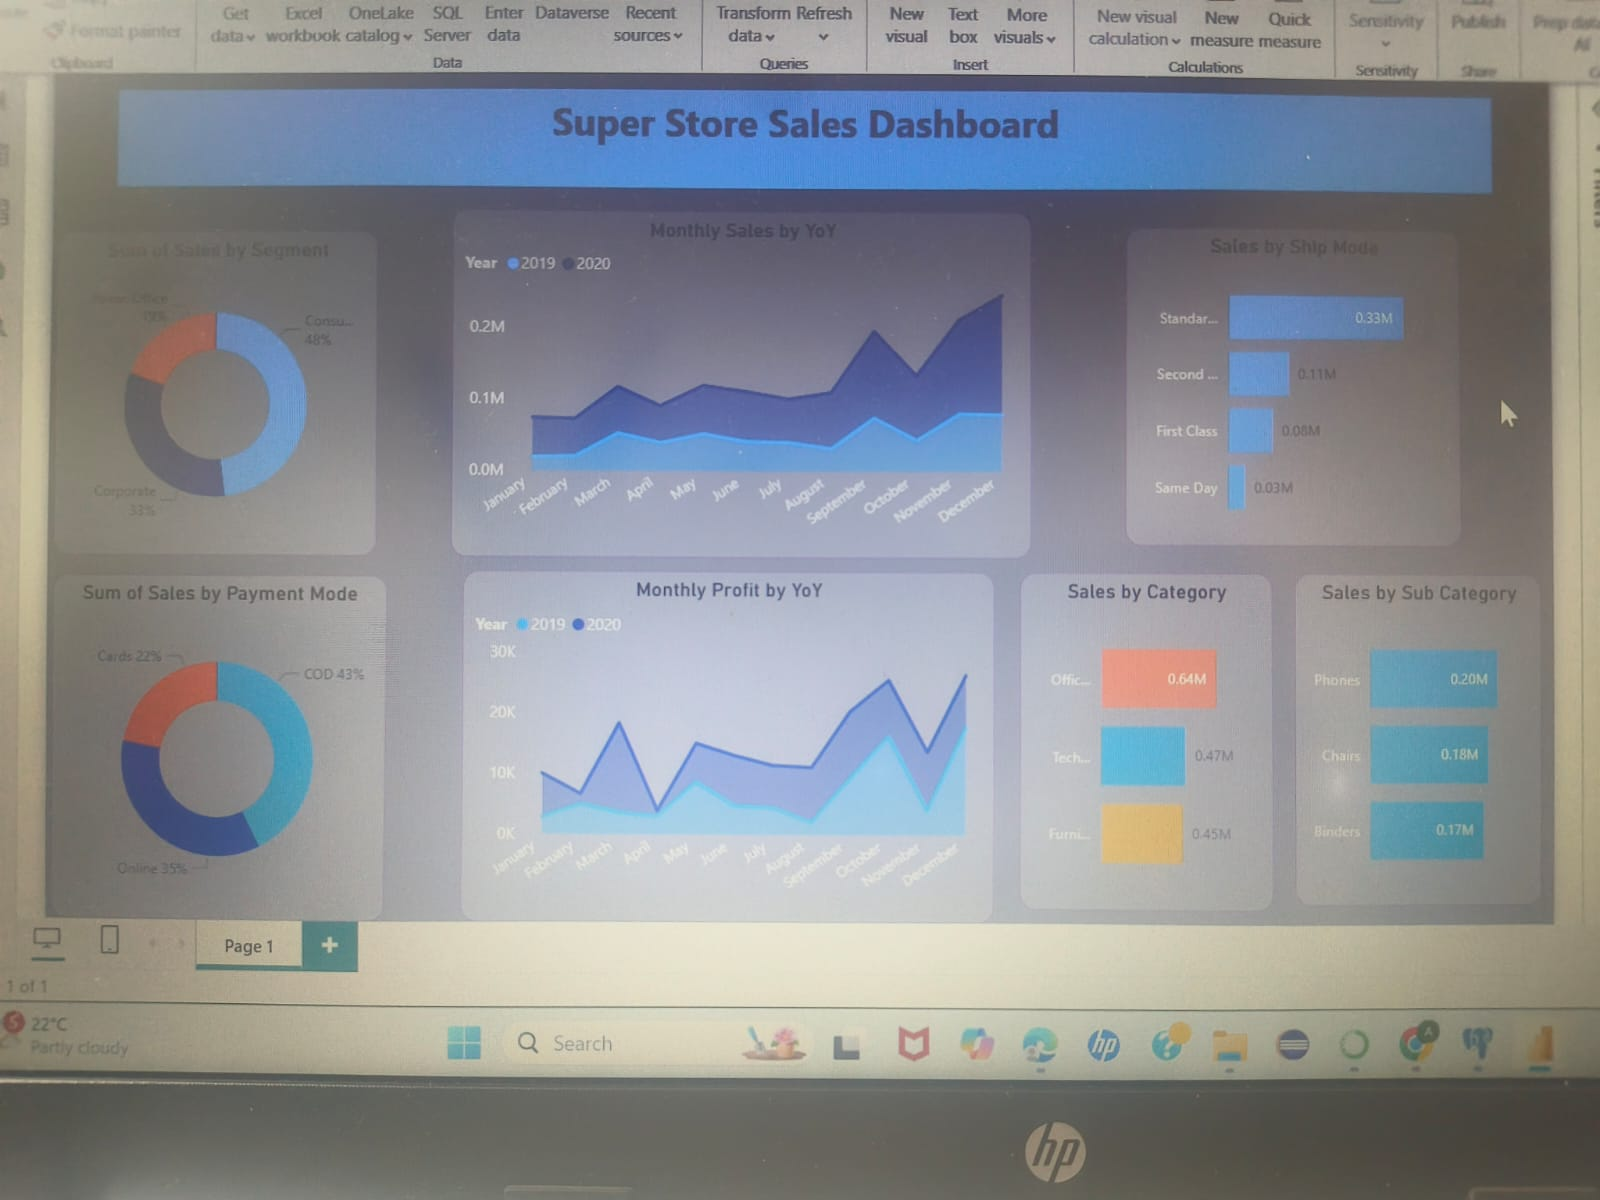

What the dashboard file says about the page in this screenshot:
{"tool":"powerbi","page":{"name":"Page 1","canvas":[1280,720],"ordinal":0},"visuals":[{"type":"clusteredBarChart","title":"Sales by Category","fields":{"Category":["SuperStore_Sales_Dataset.Category"],"Y":["Sum(SuperStore_Sales_Dataset.Sales)"]},"box":[832.4,446.4,213.5,261.8],"z":0},{"type":"clusteredBarChart","title":"Sales by Sub Category","fields":{"Category":["SuperStore_Sales_Dataset.Sub-Category"],"Y":["Sum(SuperStore_Sales_Dataset.Sales)"]},"box":[1061.7,446.4,207.5,257],"z":1000},{"type":"clusteredBarChart","title":"Sales by Ship Mode","fields":{"Category":["SuperStore_Sales_Dataset.Ship Mode"],"Y":["Sum(SuperStore_Sales_Dataset.Sales)"]},"box":[894,218.4,305.2,206.3],"z":2000},{"type":"stackedAreaChart","title":"Monthly Sales by YoY","fields":{"Y":["Sum(SuperStore_Sales_Dataset.Sales)"],"Category":["SuperStore_Sales_Dataset.Order Date.Variation.Date Hierarchy.Month","SuperStore_Sales_Dataset.Order Date.Variation.Date Hierarchy.Day"],"Series":["SuperStore_Sales_Dataset.Order Date.Variation.Date Hierarchy.Year"]},"box":[380,218.4,452.4,228],"z":3000},{"type":"stackedAreaChart","title":"Monthly Profit  by YoY","fields":{"Category":["SuperStore_Sales_Dataset.Order Date.Variation.Date Hierarchy.Month","SuperStore_Sales_Dataset.Order Date.Variation.Date Hierarchy.Day"],"Series":["SuperStore_Sales_Dataset.Order Date.Variation.Date Hierarchy.Year"],"Y":["Sum(SuperStore_Sales_Dataset.Profit)"]},"box":[380,460.9,423.5,259.4],"z":4000},{"type":"donutChart","fields":{"Category":["SuperStore_Sales_Dataset.Segment"],"Y":["Sum(SuperStore_Sales_Dataset.Sales)"]},"box":[4.8,196.6,275.1,252.1],"z":5000},{"type":"donutChart","fields":{"Category":["SuperStore_Sales_Dataset.Payment Mode","SuperStore_Sales_Dataset.Segment"],"Y":["Sum(SuperStore_Sales_Dataset.Sales)"]},"box":[4.8,460.9,275.1,259.4],"z":6000},{"type":"textbox","box":[54.3,14.5,1175.1,83.2],"z":7000},{"type":"cardVisual","title":"Sales","fields":{"Data":["Sum(SuperStore_Sales_Dataset.Sales)"]},"box":[194.2,89.3,170.1,118.2],"z":8000},{"type":"cardVisual","title":"Sales","fields":{"Data":["Sum(SuperStore_Sales_Dataset.Quantity)"]},"box":[431.9,89.3,174.9,120.6],"z":8001},{"type":"cardVisual","title":"Sales","fields":{"Data":["Sum(SuperStore_Sales_Dataset.Profit)"]},"box":[676.8,89.3,171.3,125.5],"z":8002},{"type":"cardVisual","title":"Sales","fields":{"Data":["Avg(SuperStore_Sales_Dataset.AvgDelivery)"]},"box":[939.8,89.3,167.7,125.5],"z":8003}]}

Visuals, with their boxes in screenshot pixels (x1, y1, x2, y2):
"Sales by Category" clusteredBarChart: l=1027, t=589, r=1281, b=900
"Sales by Sub Category" clusteredBarChart: l=1300, t=589, r=1547, b=895
"Sales by Ship Mode" clusteredBarChart: l=1100, t=318, r=1463, b=563
"Monthly Sales by YoY" stackedAreaChart: l=489, t=318, r=1027, b=589
"Monthly Profit  by YoY" stackedAreaChart: l=489, t=606, r=993, b=915
donutChart - SuperStore_Sales_Dataset.Segment x Sum(SuperStore_Sales_Dataset.Sales): l=43, t=292, r=370, b=592
donutChart - SuperStore_Sales_Dataset.Payment Mode x SuperStore_Sales_Dataset.Segment: l=43, t=606, r=370, b=915
textbox: l=102, t=76, r=1499, b=174
"Sales" cardVisual: l=268, t=165, r=471, b=305
"Sales" cardVisual: l=551, t=165, r=759, b=308
"Sales" cardVisual: l=842, t=165, r=1046, b=314
"Sales" cardVisual: l=1155, t=165, r=1354, b=314
